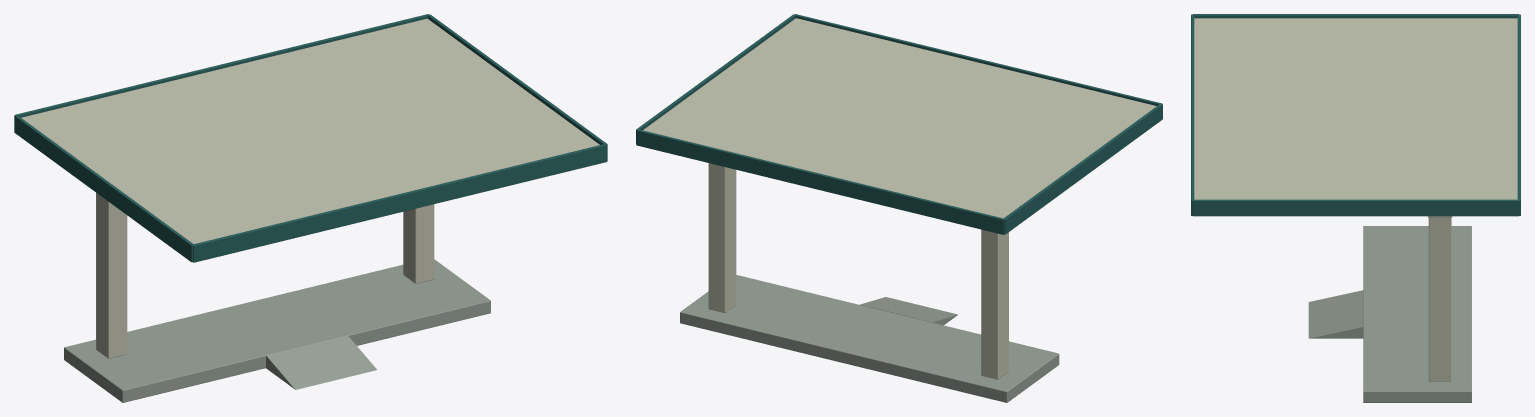
Rendered from edited.glb.
3 renders of one model, left to right at view 1: azimuth 30°, elevation 25°; view 2: azimuth 150°, elevation 25°; view 3: azimuth 270°, elevation 25°, orthographic. The views are drawn at different scales.
Parts seen in each view (by area): view 1: CANOPY_Slab, WALKWAY_Platform, FASCIA_Long, COLUMN_BackSupport.001, WALKWAY_Ramp, FASCIA_End, COLUMN_BackSupport, FASCIA_Long.001, FASCIA_End.001; view 2: CANOPY_Slab, WALKWAY_Platform, FASCIA_Long.001, COLUMN_BackSupport, COLUMN_BackSupport.001, FASCIA_End, FASCIA_Long, WALKWAY_Ramp, FASCIA_End.001; view 3: CANOPY_Slab, WALKWAY_Platform, FASCIA_End.001, COLUMN_BackSupport, WALKWAY_Ramp, FASCIA_End, FASCIA_Long, FASCIA_Long.001.
Boxes of the visible parts, left/top/right/bottom form: CANOPY_Slab: left=21, top=18, right=599, bottom=243; WALKWAY_Platform: left=64, top=259, right=490, bottom=402; FASCIA_Long: left=193, top=144, right=607, bottom=262; COLUMN_BackSupport.001: left=96, top=192, right=127, bottom=358; WALKWAY_Ramp: left=266, top=335, right=376, bottom=389; FASCIA_End: left=14, top=115, right=193, bottom=262; COLUMN_BackSupport: left=403, top=204, right=434, bottom=283; FASCIA_Long.001: left=14, top=14, right=428, bottom=117; FASCIA_End.001: left=428, top=14, right=607, bottom=160; CANOPY_Slab: left=643, top=18, right=1156, bottom=218; WALKWAY_Platform: left=680, top=275, right=1059, bottom=402; FASCIA_Long.001: left=636, top=129, right=1004, bottom=234; COLUMN_BackSupport: left=708, top=163, right=736, bottom=312; COLUMN_BackSupport.001: left=981, top=229, right=1008, bottom=379; FASCIA_End: left=1004, top=104, right=1162, bottom=234; FASCIA_Long: left=794, top=14, right=1162, bottom=105; WALKWAY_Ramp: left=860, top=297, right=957, bottom=325; FASCIA_End.001: left=636, top=14, right=795, bottom=143; CANOPY_Slab: left=1194, top=18, right=1517, bottom=199; WALKWAY_Platform: left=1363, top=226, right=1471, bottom=402; FASCIA_End.001: left=1192, top=199, right=1519, bottom=216; COLUMN_BackSupport: left=1428, top=217, right=1451, bottom=381; WALKWAY_Ramp: left=1308, top=290, right=1363, bottom=338; FASCIA_End: left=1192, top=14, right=1519, bottom=18; FASCIA_Long: left=1191, top=14, right=1194, bottom=215; FASCIA_Long.001: left=1517, top=14, right=1520, bottom=215.
Bounding box in the file's own units: 6.1 × 3.24 × 4.55.
